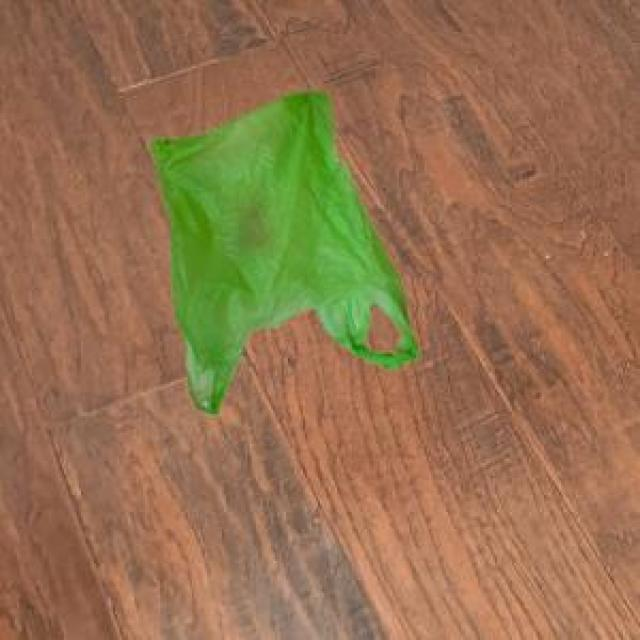waste: (151, 94, 419, 412)
